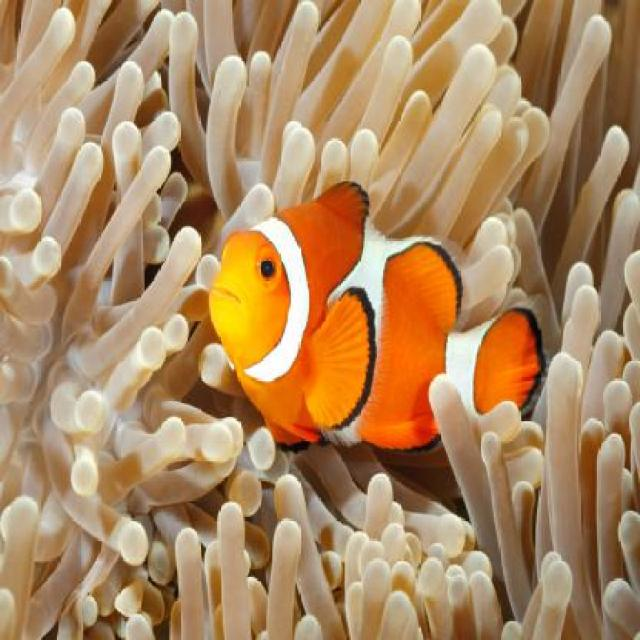ClownFish: (205, 182, 546, 463)
